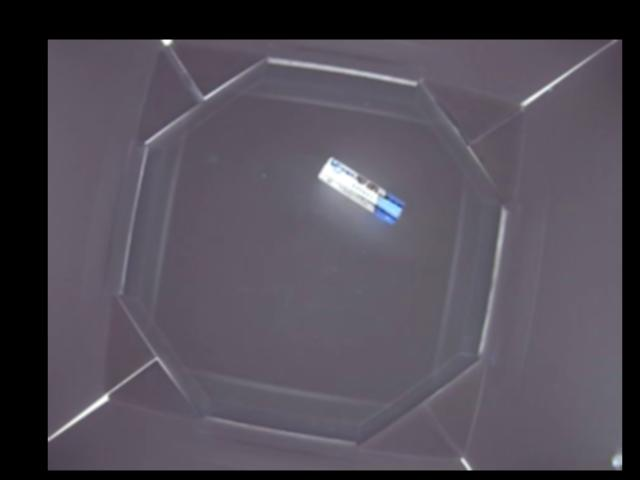Battery: (316, 156, 406, 225)
